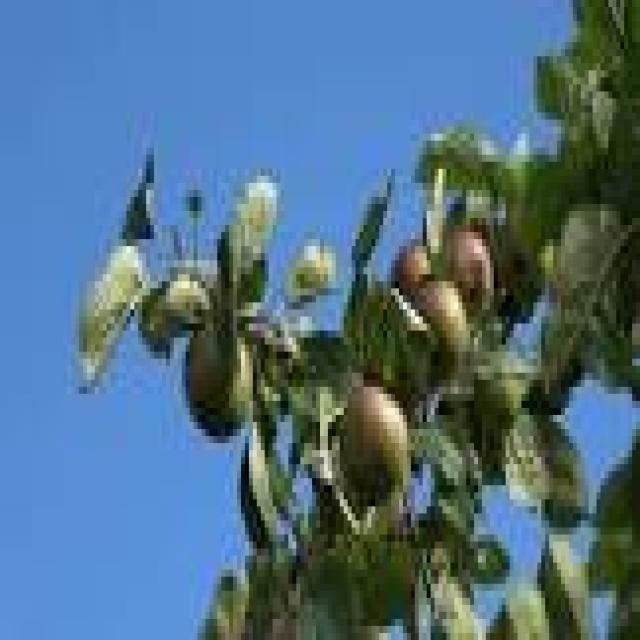Unripe: (337, 382, 409, 501)
